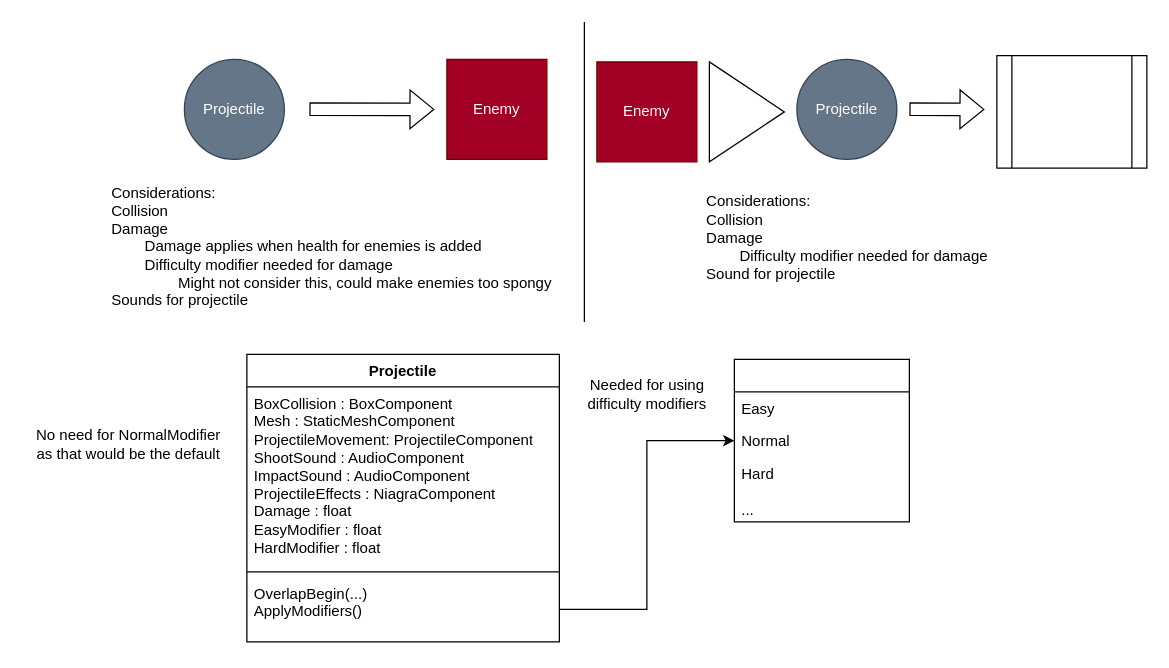
Some shapes in this 1169 by 668 pixel diagram are drawn without their labels. The shapes that lost their labels are listed below. From the top down, each one's box as (x1, y1, x2, y2) in pixels, then its label:
(708, 61, 784, 162): Creates
(996, 54, 1147, 168): Castle
(733, 358, 909, 522): Global Variables
